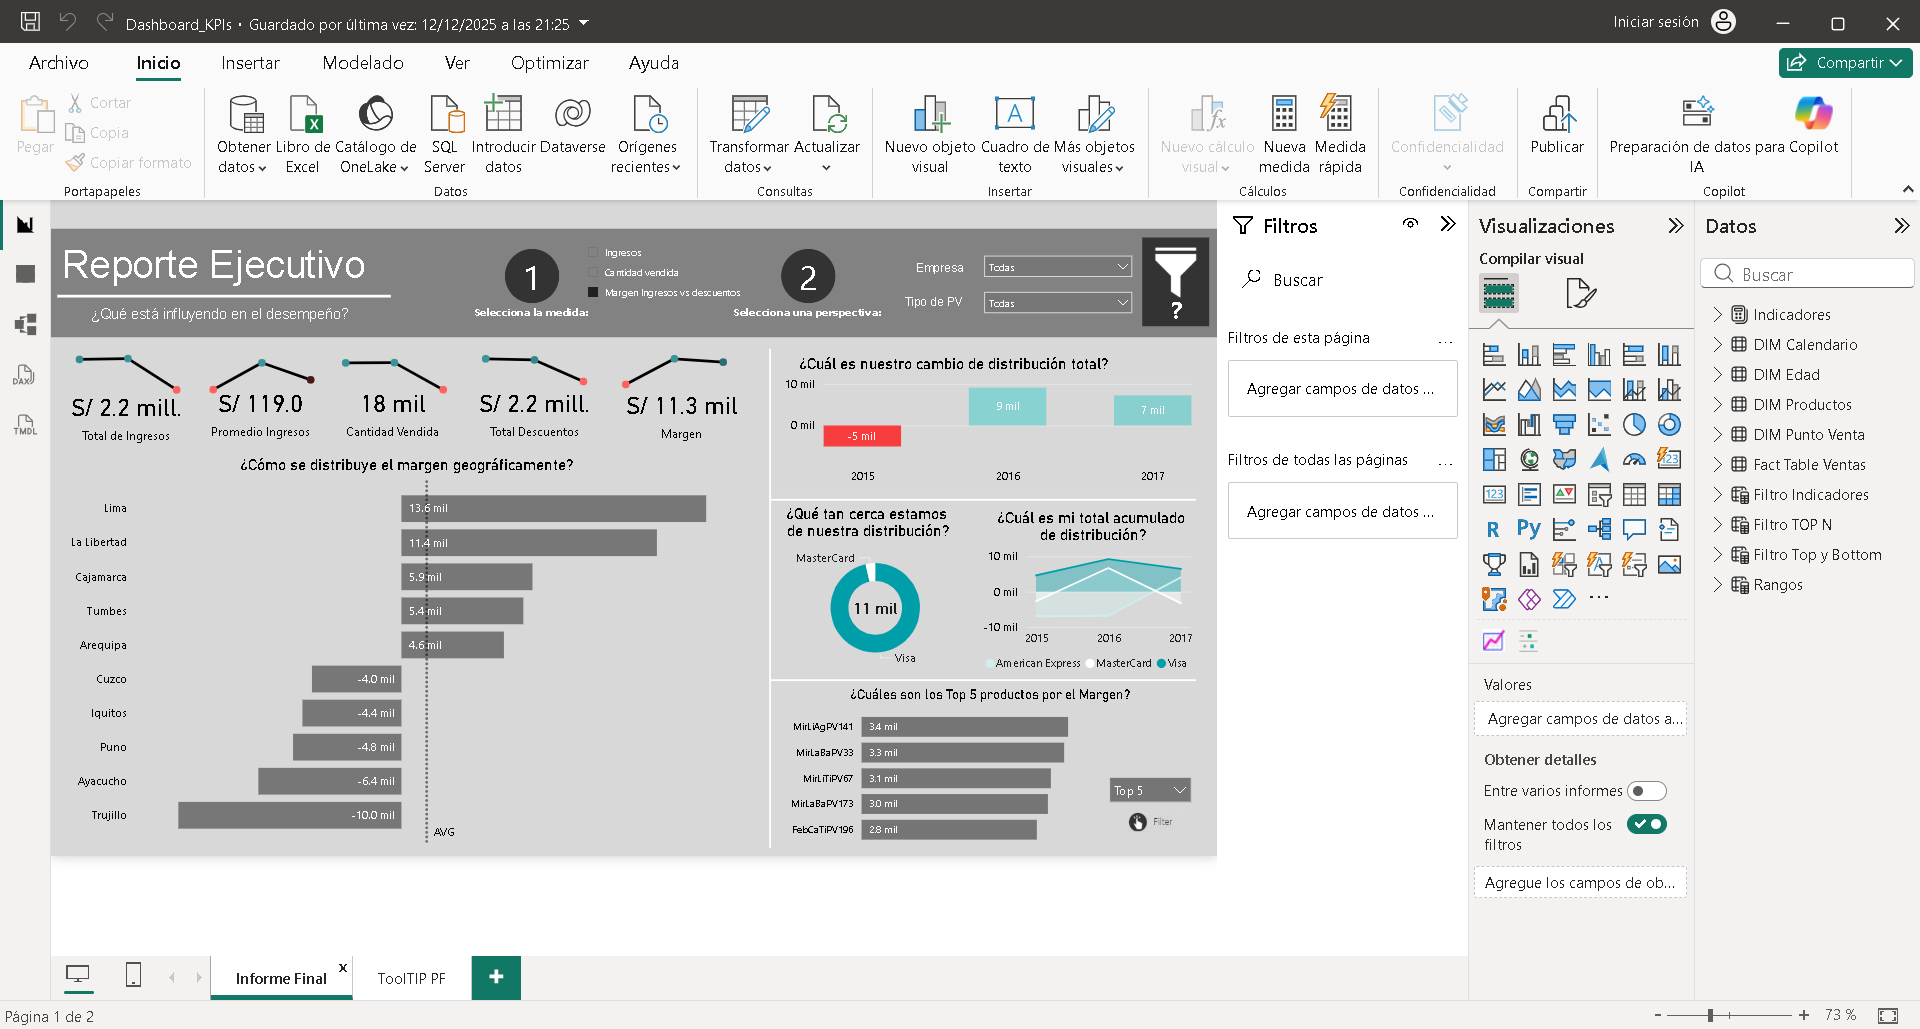

The page's visual inventory and layout, read from the dashboard file:
{"tool":"powerbi","page":{"name":"Informe Final","canvas":[1280,720],"ordinal":0},"visuals":[{"type":"shape","box":[0,30.9,1280,119.1],"z":0},{"type":"shape","box":[1197.4,41.3,73.5,97.4],"z":0,"group":"g3"},{"type":"shape","box":[497.6,53,60,60],"z":0,"group":"g1"},{"type":"shape","box":[800.8,53,60,60],"z":0,"group":"g2"},{"type":"lineChart","fields":{"Y":["Indicadores.Ingresos"],"Category":["DIM Calendario.Fecha.Variation.Date Hierarchy.Year"]},"box":[16.1,155.8,136.7,62.2],"z":0,"group":"g4"},{"type":"lineChart","fields":{"Category":["DIM Calendario.Fecha.Variation.Date Hierarchy.Year"],"Y":["Indicadores.Promedio Ingresos"]},"box":[162.8,156,137,62],"z":0,"group":"g5"},{"type":"lineChart","fields":{"Category":["DIM Calendario.Fecha.Variation.Date Hierarchy.Year"],"Y":["Indicadores.Cantidad de TC Vendidas"]},"box":[308.7,156,137,62.1],"z":0,"group":"g6"},{"type":"lineChart","fields":{"Category":["DIM Calendario.Fecha.Variation.Date Hierarchy.Year"],"Y":["Indicadores.Total de decuento otorgado"]},"box":[462.6,156,137.2,62.2],"z":0,"group":"g7"},{"type":"lineChart","fields":{"Category":["DIM Calendario.Fecha.Variation.Date Hierarchy.Year"],"Y":["Indicadores.Variacion ingresos-descuentos"]},"box":[615.7,156,137,62.1],"z":0,"group":"g8"},{"type":"textbox","box":[497.6,53,60,60],"z":1000,"group":"g1"},{"type":"textbox","box":[800.8,53,60,60],"z":1000,"group":"g2"},{"type":"textbox","box":[1206.2,96.9,57.5,55.8],"z":1000,"group":"g3"},{"type":"card","fields":{"Values":["Indicadores.Promedio Ingresos"]},"box":[165,186.7,129.3,90],"z":1000,"group":"g5"},{"type":"card","fields":{"Values":["Indicadores.Cantidad de TC Vendidas"]},"box":[312.4,187.8,125,87.9],"z":1000,"group":"g6"},{"type":"card","fields":{"Values":["Indicadores.Total de decuento otorgado"]},"box":[454.6,187.9,152.5,87.8],"z":1000,"group":"g7"},{"type":"card","fields":{"Values":["Indicadores.Variacion ingresos-descuentos"]},"box":[615.7,188.2,152.5,87.8],"z":1000,"group":"g8"},{"type":"card","fields":{"Values":["Indicadores.Ingresos"]},"box":[16.2,193.7,132.8,82.2],"z":1000,"group":"g4"},{"type":"shape","box":[789.3,321.3,468,16],"z":1000},{"type":"image","box":[1205.5,47.3,57.3,66.4],"z":2000,"group":"g3"},{"type":"shape","box":[782.2,163.3,14.4,547.8],"z":2000},{"type":"shape","box":[789.2,518.7,468.2,16.8],"z":3000},{"type":"shape","box":[6.2,96.9,366.2,16.2],"z":4000},{"type":"group","id":"g1","title":"Group 1","box":[497.6,53,60,60],"z":5000},{"type":"group","id":"g2","title":"Group 1","box":[800.8,53,60,60],"z":6000},{"type":"group","id":"g3","title":"Group 2","box":[1197.4,41.3,73.5,111.4],"z":7000},{"type":"textbox","box":[6.4,41.4,360,60],"z":8000},{"type":"textbox","box":[8.8,111.8,354.7,31.2],"z":9000},{"type":"slicer","fields":{"Values":["DIM Productos.Empresa"]},"box":[1014,51,183,41],"z":10000},{"type":"slicer","fields":{"Values":["DIM Punto Venta.Tipo"]},"box":[1014,90,183,41],"z":11000},{"type":"textbox","box":[907.2,60.7,99.4,29.4],"z":12000},{"type":"textbox","box":[907.2,97.1,99.4,29.4],"z":13000},{"type":"textbox","box":[736.8,109,187.3,29.3],"z":14000},{"type":"textbox","box":[433.6,109,187.3,29.3],"z":15000},{"type":"group","id":"g4","title":"Group 3","box":[16.1,155.8,136.7,120.1],"z":16000},{"type":"group","id":"g5","title":"Group 3","box":[162.8,156,137,120.7],"z":17000},{"type":"group","id":"g6","title":"Group 3","box":[308.7,156,137,119.7],"z":18000},{"type":"group","id":"g7","title":"Group 3","box":[454.6,156,152.5,119.7],"z":19000},{"type":"group","id":"g8","title":"Group 3","box":[615.7,156,152.5,120],"z":20000},{"type":"clusteredBarChart","title":"Como se distribuyen los ingresos geográficamente?","fields":{"Y":["Indicadores.Indicador de filtro"],"Category":["DIM Punto Venta.Departamento"]},"box":[16.7,296.7,751.1,414.4],"z":21000},{"type":"slicer","fields":{"Values":["Parameter 2.Parameter"]},"box":[576.4,41.7,191.5,83.3],"z":22000},{"type":"card","fields":{"Values":["Indicadores.Filtro de Titulos"]},"box":[111.7,266.9,559.5,47.9],"z":23000},{"type":"slicer","fields":{"Values":["Filtro Top y Bottom.Filtro Top y Bottom"]},"box":[1151.8,622.5,110.8,44.3],"z":24000},{"type":"image","box":[1155.4,666.8,102,32.8],"z":25000},{"type":"clusteredBarChart","fields":{"Category":["DIM Punto Venta.PuntoVenta"],"Y":["Indicadores.PTV MOD"]},"box":[800.5,543.7,355,176],"z":26000},{"type":"card","fields":{"Values":["Indicadores.Titulo Filtrado 6"]},"box":[828.2,527.6,405.2,33.7],"z":27000},{"type":"clusteredColumnChart","title":"Cual es nuestro ingresos","fields":{"Y":["Indicadores.Indicador de filtro"],"Category":["DIM Calendario.Fecha.Variation.Date Hierarchy.Year"]},"box":[800.9,171.4,455.8,150],"z":28000},{"type":"donutChart","fields":{"Category":["DIM Productos.Empresa"],"Y":["Indicadores.Indicador de filtro"]},"box":[796,377.8,218.3,141.1],"z":29000},{"type":"card","fields":{"Values":["Indicadores.Indicador de filtro"]},"box":[872.1,426.8,66.2,44.2],"z":30000},{"type":"areaChart","fields":{"Category":["DIM Calendario.Fecha.Variation.Date Hierarchy.Year"],"Y":["Indicadores.Indicador de filtro"],"Series":["DIM Productos.Empresa"]},"box":[1019.2,377.8,237.9,149.6],"z":31000},{"type":"card","fields":{"Values":["Indicadores.Filtro de Titulos 2"]},"box":[800.9,163.1,380.2,33.1],"z":32000},{"type":"card","fields":{"Values":["Indicadores.Filtro de Titulos 3"]},"box":[788.7,321.4,217.1,66.2],"z":33000},{"type":"card","fields":{"Values":["Indicadores.Filtro de Titulos 4"]},"box":[1018.8,328.8,252.5,58.8],"z":34000}]}

Visuals, with their boxes on the page's 1280x720 design canvas (x1, y1, x2, y2). These are canvas units, not pixel positions in the 1920x1029 screenshot, which may show the page scaled, cropped or inside an application window:
shape: bbox(0, 31, 1280, 150)
shape: bbox(1197, 41, 1271, 139)
shape: bbox(498, 53, 558, 113)
shape: bbox(801, 53, 861, 113)
lineChart - Indicadores.Ingresos x DIM Calendario.Fecha.Variation.Date Hierarchy.Year: bbox(16, 156, 153, 218)
lineChart - DIM Calendario.Fecha.Variation.Date Hierarchy.Year x Indicadores.Promedio Ingresos: bbox(163, 156, 300, 218)
lineChart - DIM Calendario.Fecha.Variation.Date Hierarchy.Year x Indicadores.Cantidad de TC Vendidas: bbox(309, 156, 446, 218)
lineChart - DIM Calendario.Fecha.Variation.Date Hierarchy.Year x Indicadores.Total de decuento otorgado: bbox(463, 156, 600, 218)
lineChart - DIM Calendario.Fecha.Variation.Date Hierarchy.Year x Indicadores.Variacion ingresos-descuentos: bbox(616, 156, 753, 218)
textbox: bbox(498, 53, 558, 113)
textbox: bbox(801, 53, 861, 113)
textbox: bbox(1206, 97, 1264, 153)
card - Indicadores.Promedio Ingresos: bbox(165, 187, 294, 277)
card - Indicadores.Cantidad de TC Vendidas: bbox(312, 188, 437, 276)
card - Indicadores.Total de decuento otorgado: bbox(455, 188, 607, 276)
card - Indicadores.Variacion ingresos-descuentos: bbox(616, 188, 768, 276)
card - Indicadores.Ingresos: bbox(16, 194, 149, 276)
shape: bbox(789, 321, 1257, 337)
image: bbox(1206, 47, 1263, 114)
shape: bbox(782, 163, 797, 711)
shape: bbox(789, 519, 1257, 536)
shape: bbox(6, 97, 372, 113)
"Group 1" group: bbox(498, 53, 558, 113)
"Group 1" group: bbox(801, 53, 861, 113)
"Group 2" group: bbox(1197, 41, 1271, 153)
textbox: bbox(6, 41, 366, 101)
textbox: bbox(9, 112, 364, 143)
slicer - DIM Productos.Empresa: bbox(1014, 51, 1197, 92)
slicer - DIM Punto Venta.Tipo: bbox(1014, 90, 1197, 131)
textbox: bbox(907, 61, 1007, 90)
textbox: bbox(907, 97, 1007, 126)
textbox: bbox(737, 109, 924, 138)
textbox: bbox(434, 109, 621, 138)
"Group 3" group: bbox(16, 156, 153, 276)
"Group 3" group: bbox(163, 156, 300, 277)
"Group 3" group: bbox(309, 156, 446, 276)
"Group 3" group: bbox(455, 156, 607, 276)
"Group 3" group: bbox(616, 156, 768, 276)
"Como se distribuyen los ingresos geográficamente?" clusteredBarChart: bbox(17, 297, 768, 711)
slicer - Parameter 2.Parameter: bbox(576, 42, 768, 125)
card - Indicadores.Filtro de Titulos: bbox(112, 267, 671, 315)
slicer - Filtro Top y Bottom.Filtro Top y Bottom: bbox(1152, 622, 1263, 667)
image: bbox(1155, 667, 1257, 700)
clusteredBarChart - DIM Punto Venta.PuntoVenta x Indicadores.PTV MOD: bbox(800, 544, 1156, 720)
card - Indicadores.Titulo Filtrado 6: bbox(828, 528, 1233, 561)
"Cual es nuestro ingresos" clusteredColumnChart: bbox(801, 171, 1257, 321)
donutChart - DIM Productos.Empresa x Indicadores.Indicador de filtro: bbox(796, 378, 1014, 519)
card - Indicadores.Indicador de filtro: bbox(872, 427, 938, 471)
areaChart - DIM Calendario.Fecha.Variation.Date Hierarchy.Year x Indicadores.Indicador de filtro: bbox(1019, 378, 1257, 527)
card - Indicadores.Filtro de Titulos 2: bbox(801, 163, 1181, 196)
card - Indicadores.Filtro de Titulos 3: bbox(789, 321, 1006, 388)
card - Indicadores.Filtro de Titulos 4: bbox(1019, 329, 1271, 388)
